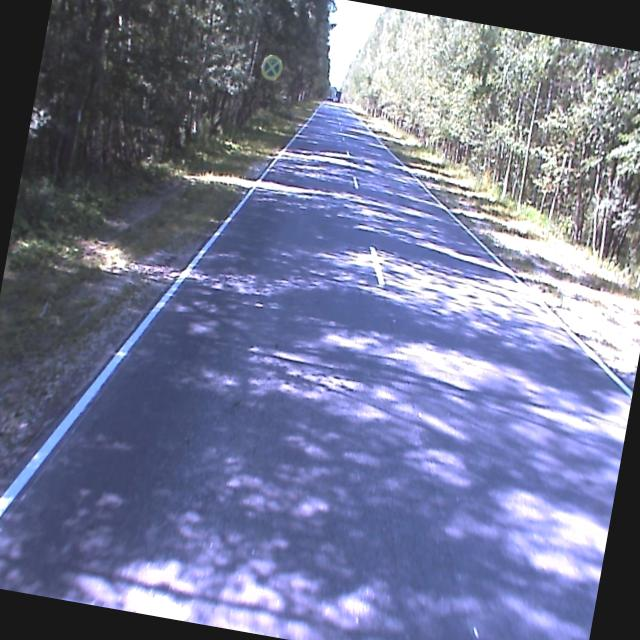road: (0, 102, 631, 640)
